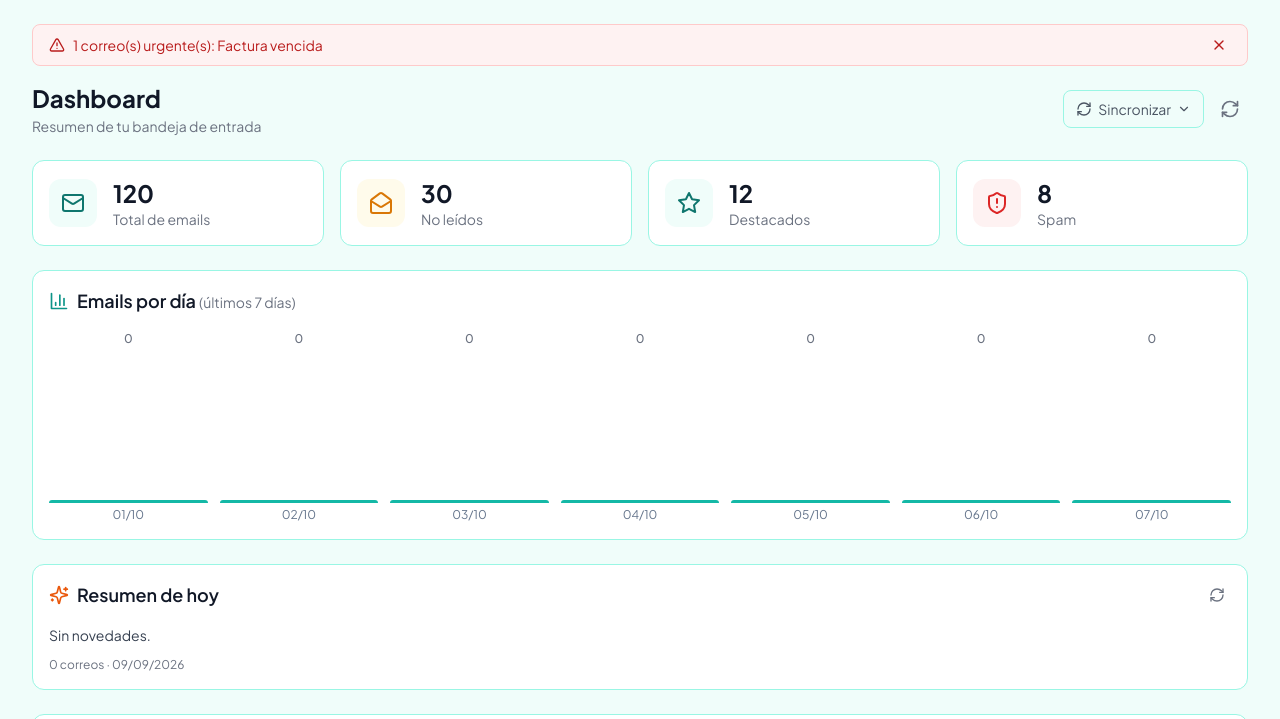
it: Dashboard › dismisses the urgent banner when the close button is clicked
The width and height of the screenshot is (1280, 719).
expect the text "Total de emails" is shown: met, box [113,209,210,229]
expect the text "1 correo(s) urgente(s): Factura vencida" is shown: met, box [73,36,323,54]
Click the button named "Descartar aviso de correos urgentes": (1219, 45) [1207,33,1231,57]
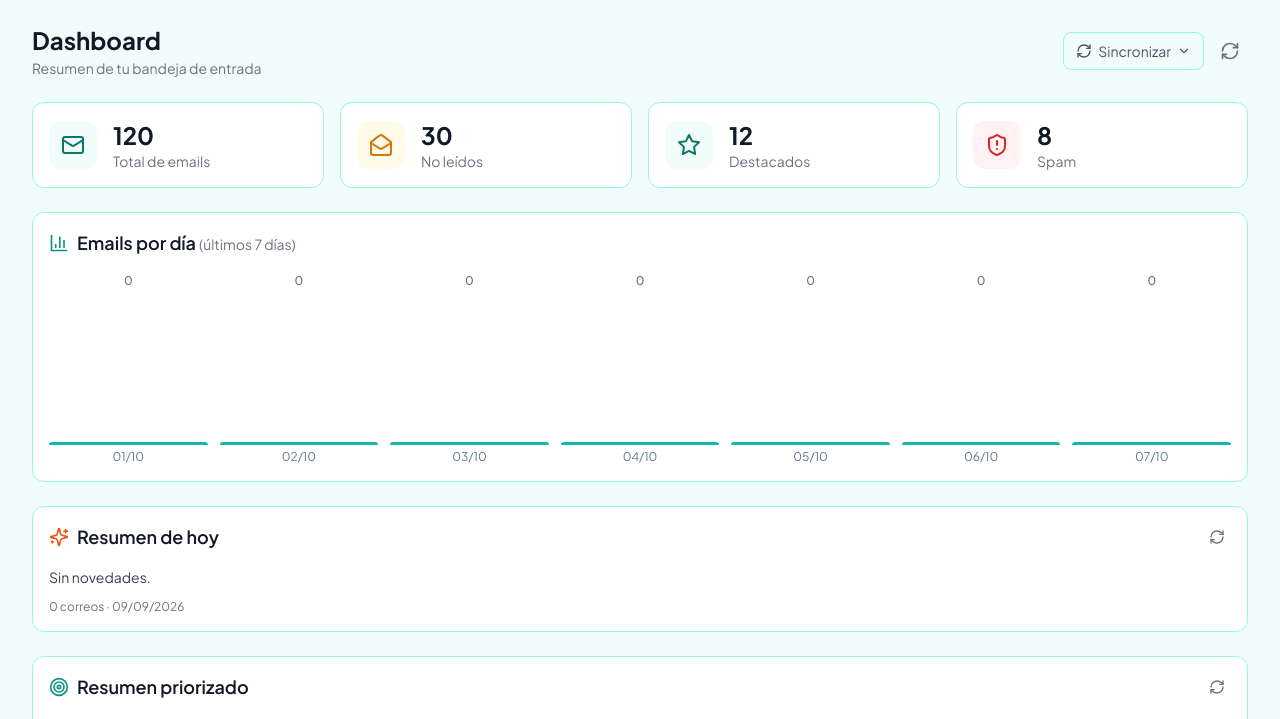
expect the text "1 correo(s) urgente(s): Factura vencida" is gone: met
